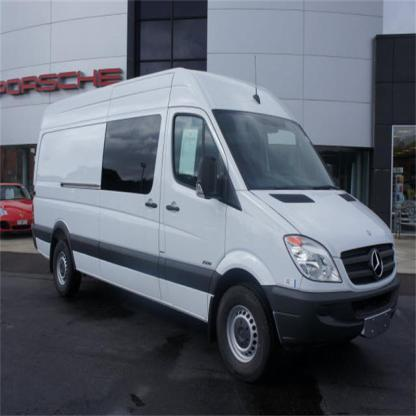Vehicle: (33, 56, 401, 383)
